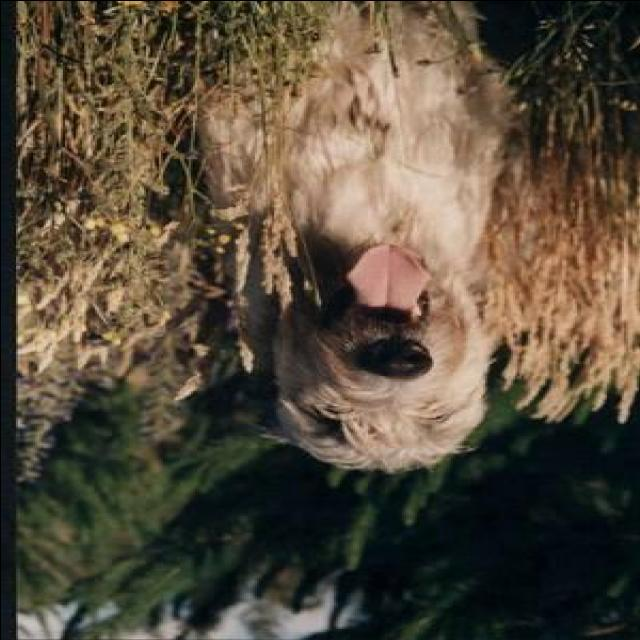irish_wolfhound: (218, 3, 524, 485)
